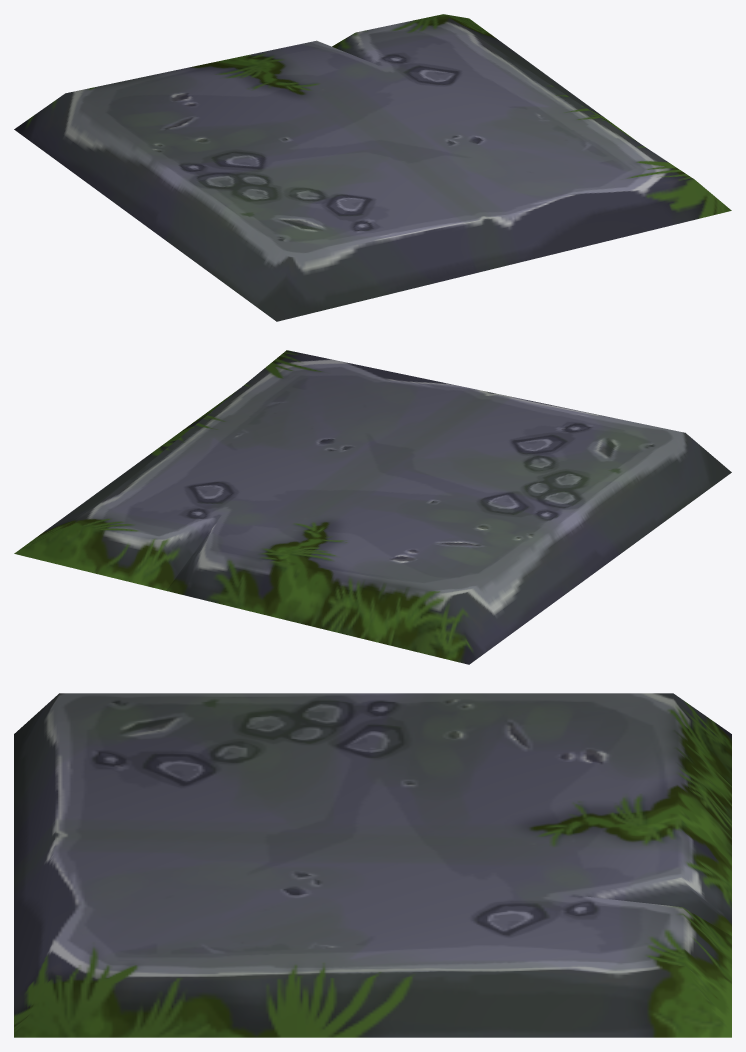
The model's file is MOD_Floor_01_O_singlestone_2.fbx.
The picture shows the model from 3 angles, top to bottom: view 1: azimuth 30°, elevation 25°; view 2: azimuth 150°, elevation 25°; view 3: azimuth 270°, elevation 25°; orthographic projection. The views are drawn at different scales.
Parts seen in each view (by area): view 1: MOD_Floor_01_O_singlestone_2; view 2: MOD_Floor_01_O_singlestone_2; view 3: MOD_Floor_01_O_singlestone_2.
Boxes of the visible parts, x1,y1,x2,y2 form: MOD_Floor_01_O_singlestone_2: (14,14,731,321); MOD_Floor_01_O_singlestone_2: (14,350,731,664); MOD_Floor_01_O_singlestone_2: (14,693,731,1037).
Size of the model in its own units: 100 by 9.34 by 100.
